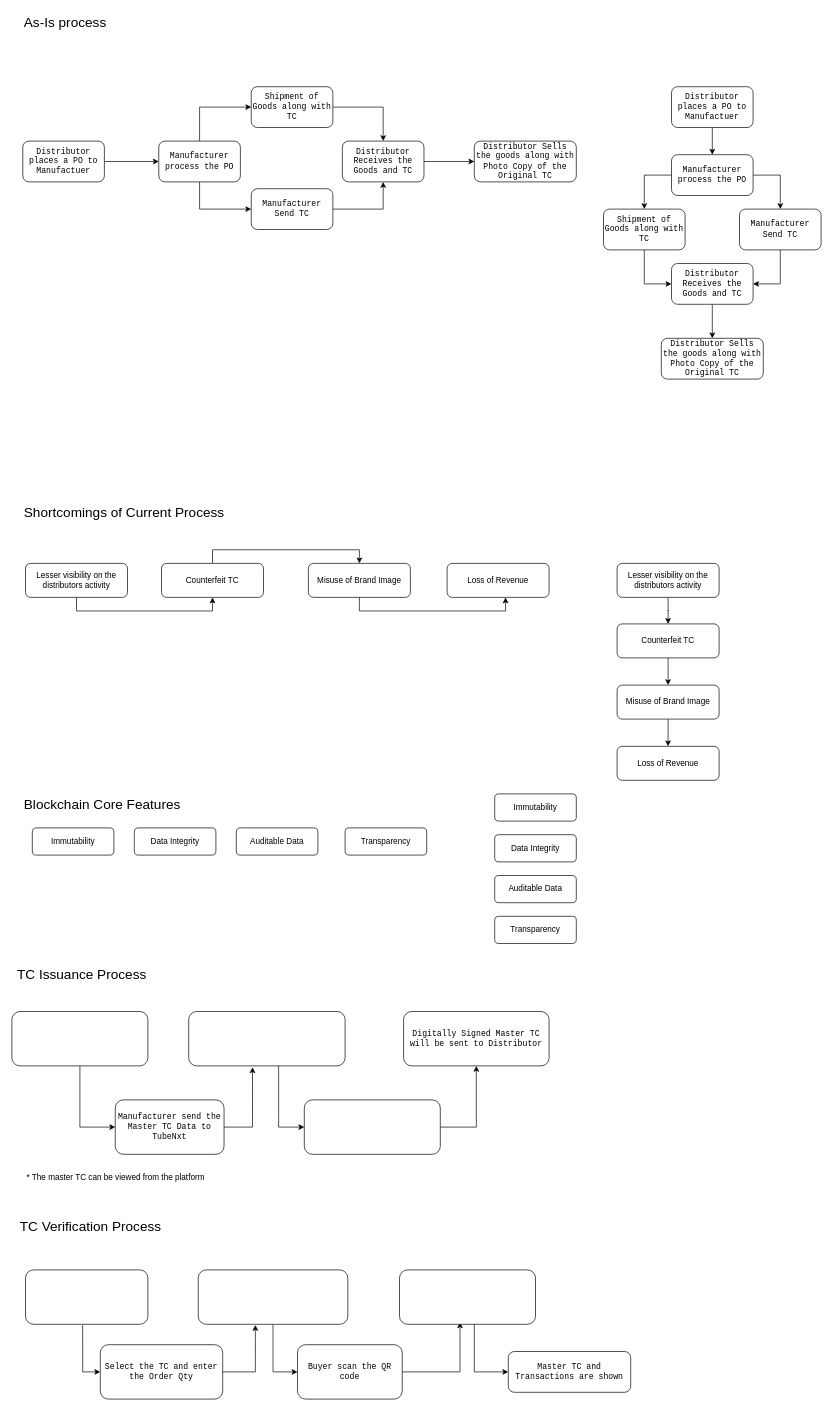
Some shapes in this 833 by 1411 pixel diagram are drawn without their labels. The shapes that lost their labels are listed below. From the top down, each one's box as (x1, y1, x2, y2) in pixels, then its label:
(11, 1011, 148, 1066): Distributor places PO to Manufacturer as per the current process
(188, 1011, 345, 1066): TubeNxt will generate PDF of the TC (If Required)
(304, 1099, 440, 1154): Digital Signatures on the Master TC PDF and QR Code
(25, 1269, 148, 1324): Distributor login into the system
(198, 1269, 348, 1324): Email/SMS notification sent for this transaction to Buyer
(399, 1269, 536, 1324): Buyer is verified using Phone OTP
